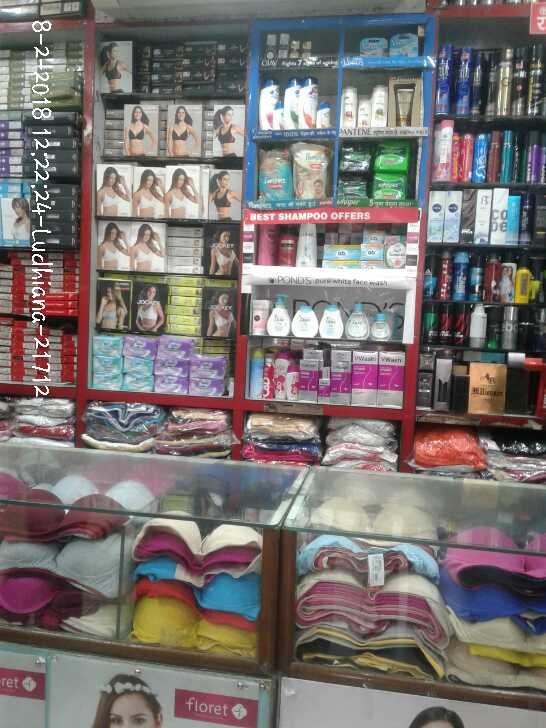venus: (390, 34, 419, 57), (362, 39, 390, 57)
